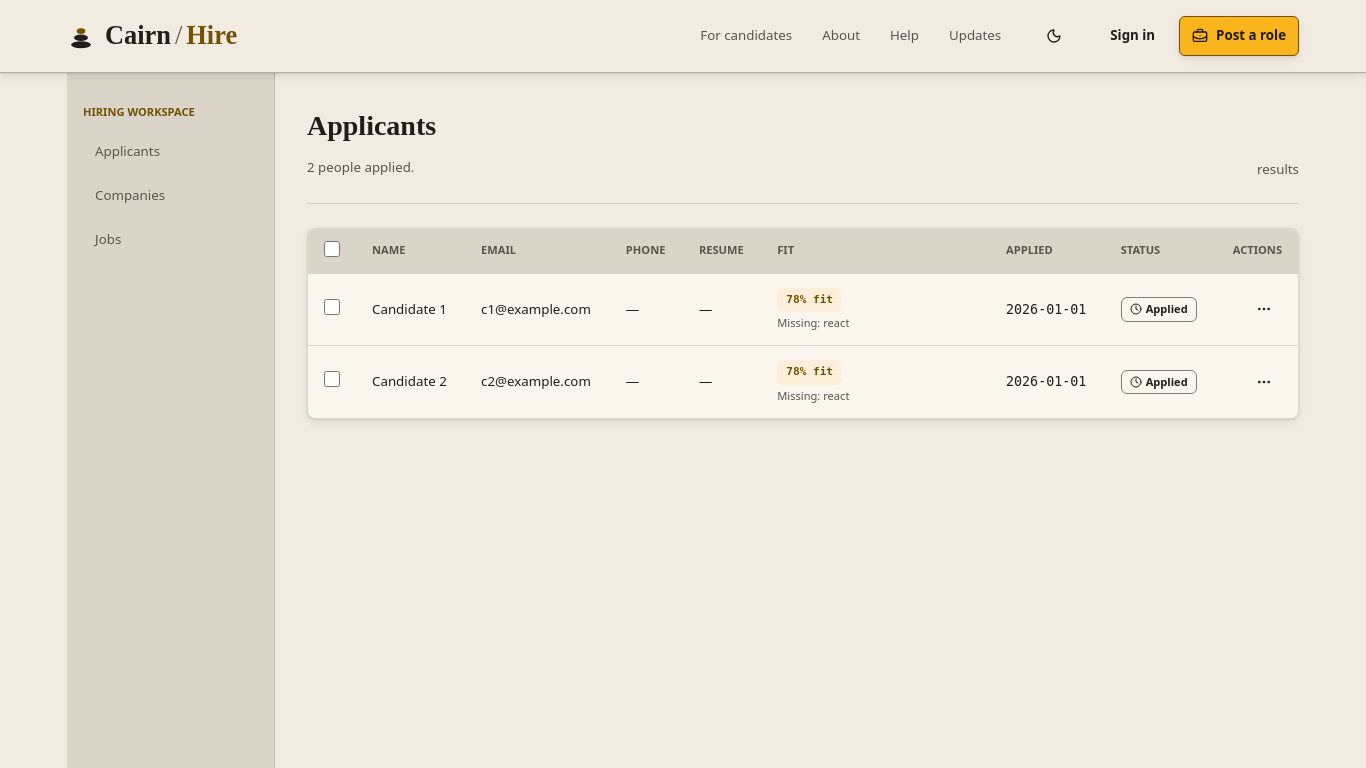
Test case: Applicants › confirms the count and stage, then reports moved and skipped
Click the checkbox named "Select Candidate 1" at (332, 307), box [324,299,340,315]
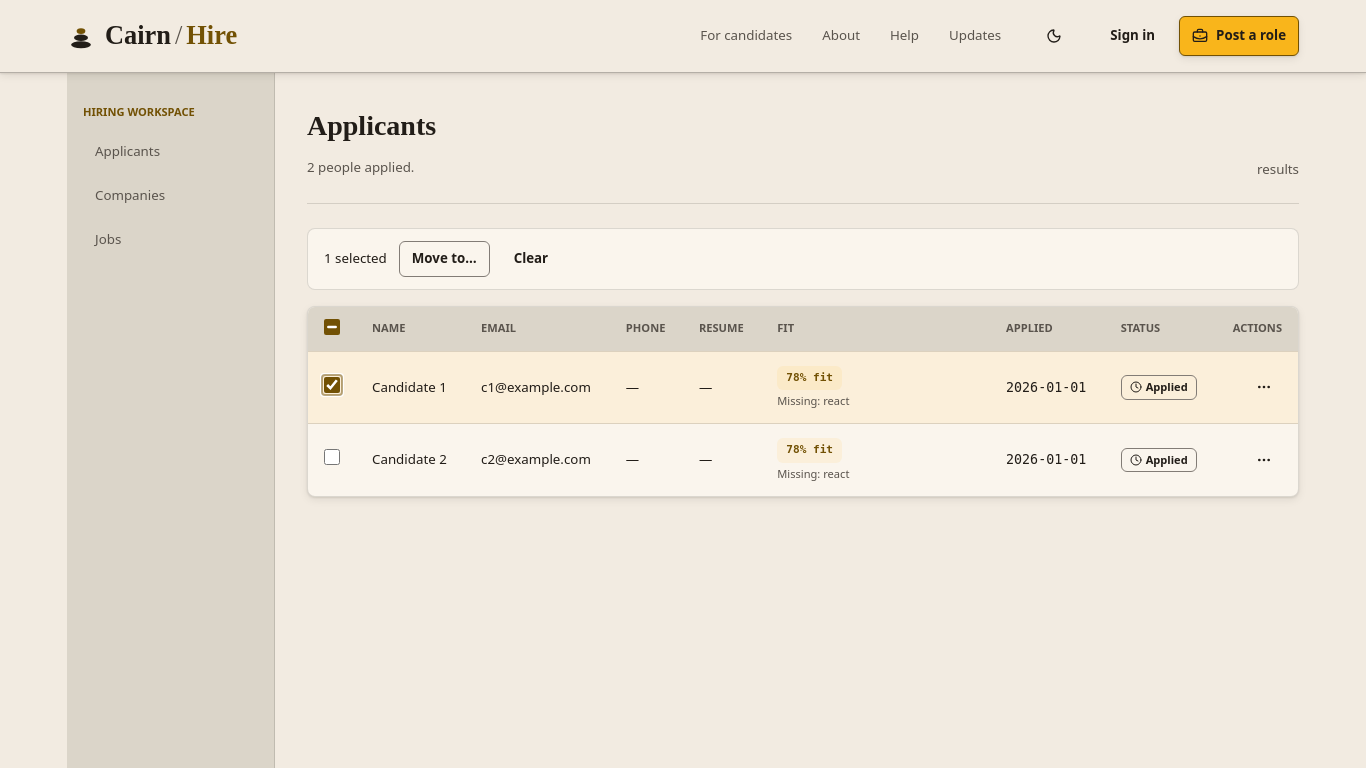
Click the checkbox named "Select Candidate 2" at (332, 457), box [324,449,340,465]
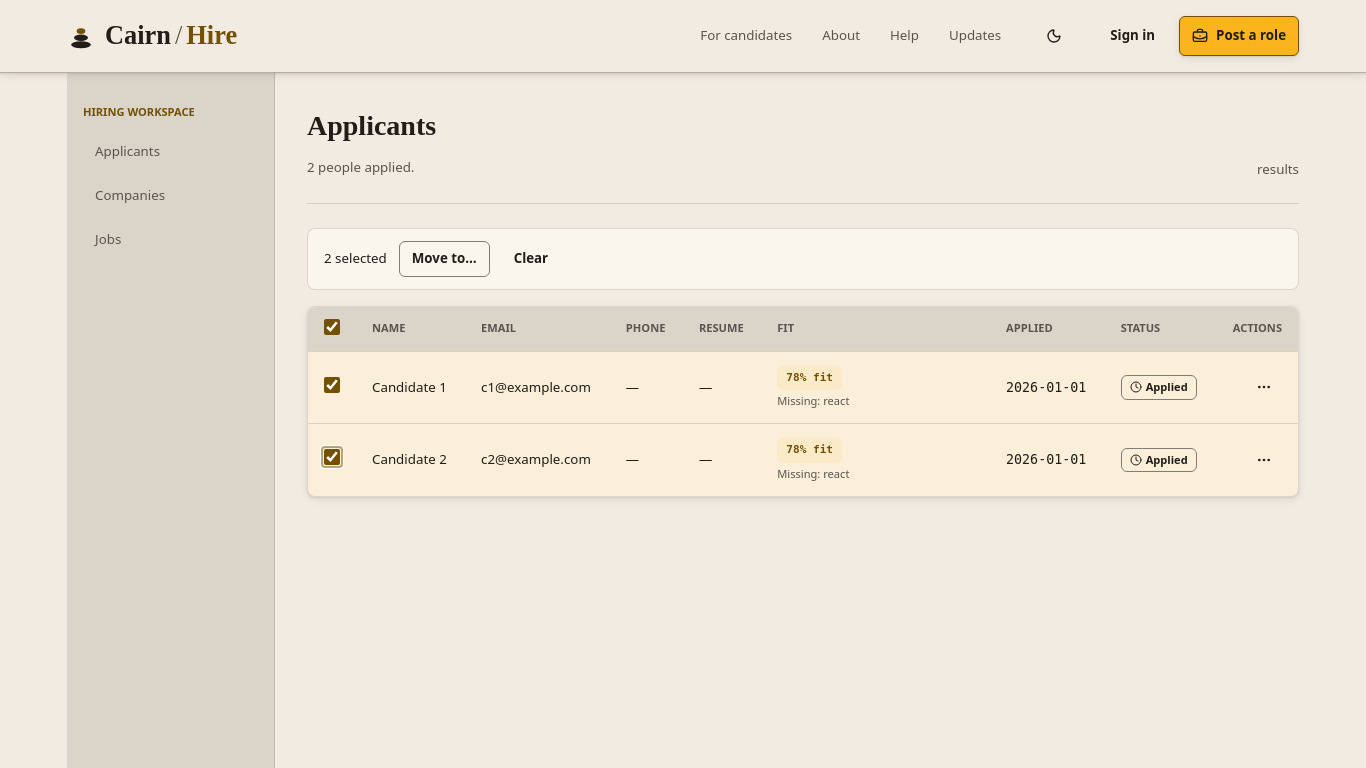
Click the button "Move to…" at (444, 259), box [399,241,490,277]
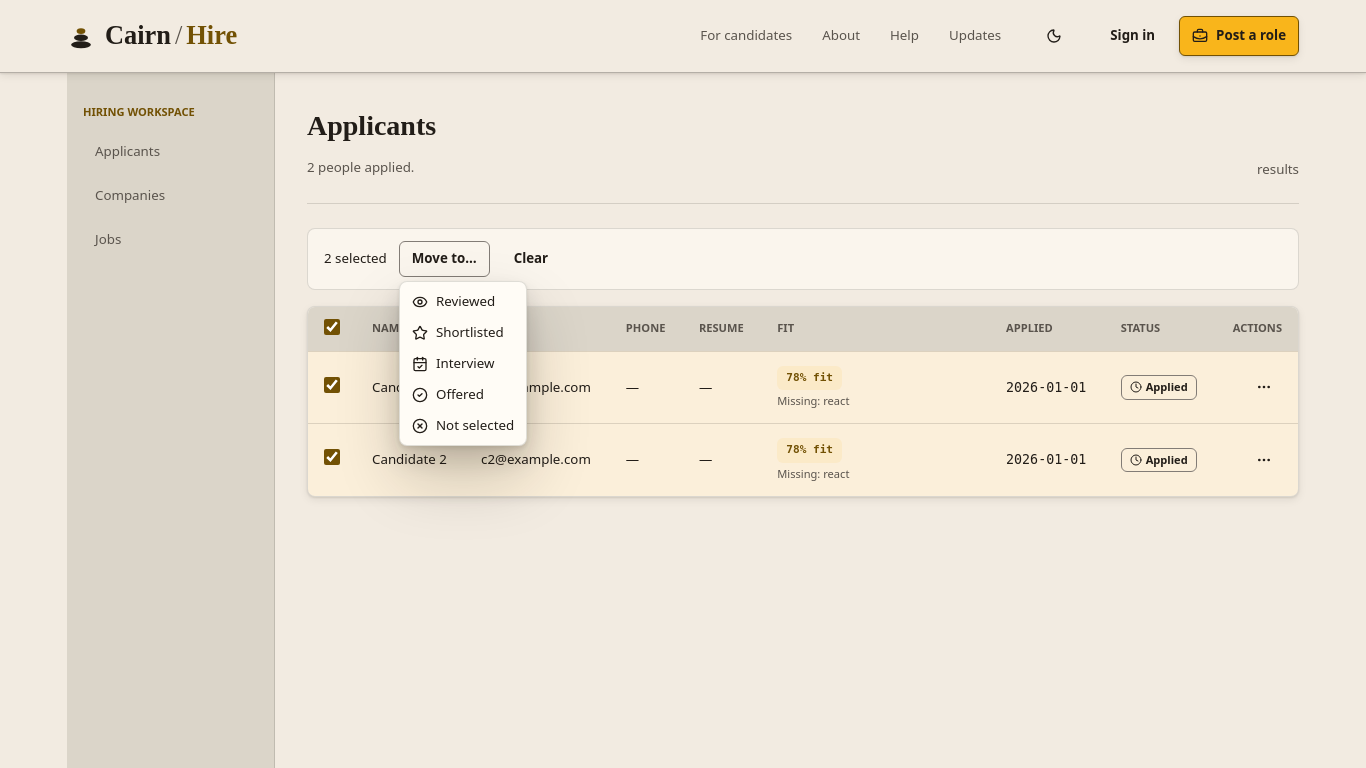
Click the menu item "Interview" at (453, 363), box [412,354,494,372]
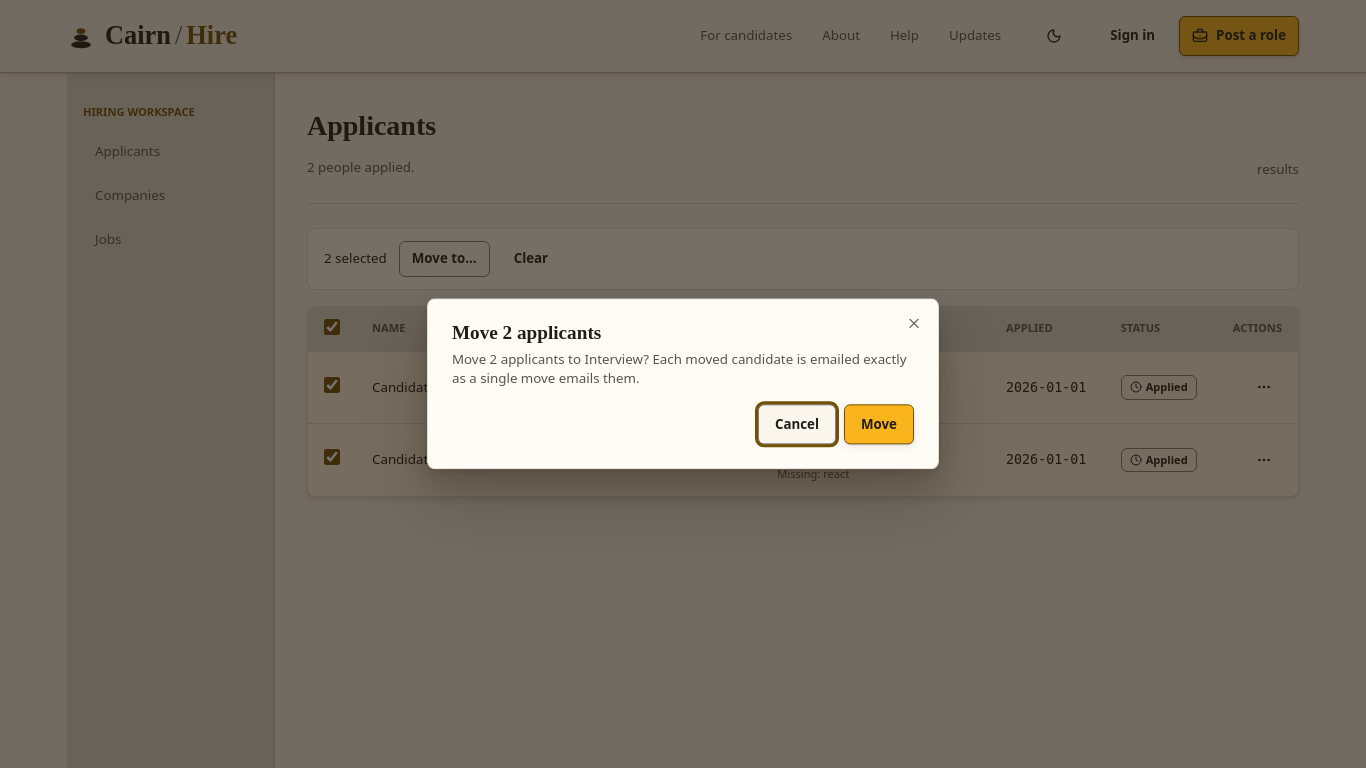
Expected: the dialog is shown, [427,298,939,470]
Expected: the heading "Move 2 applicants" is shown, [452,322,601,343]
Expected: the text "Move 2 applicants to Interview?" is shown, [452,351,906,388]
Click the button "Move" at (879, 425), box [844,405,914,445]
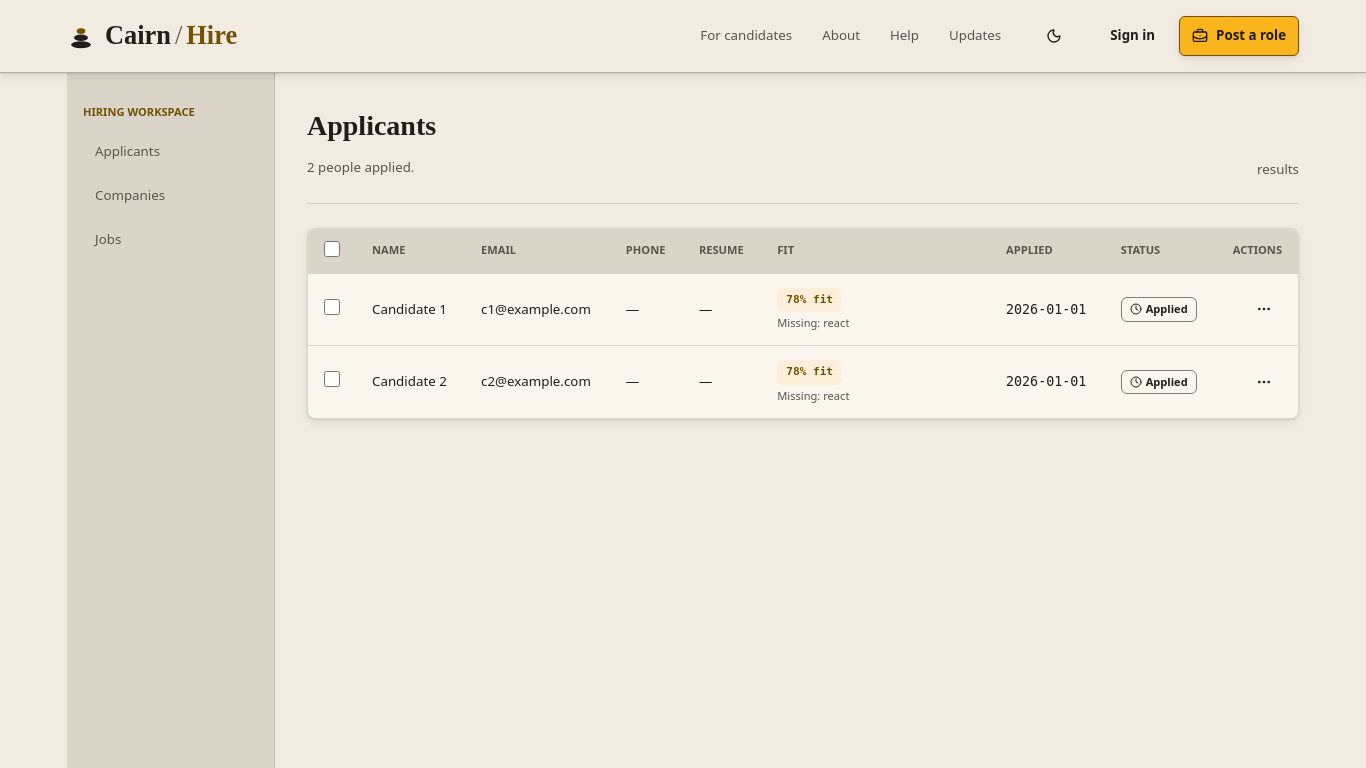
Expected: the text "2 selected" is gone
